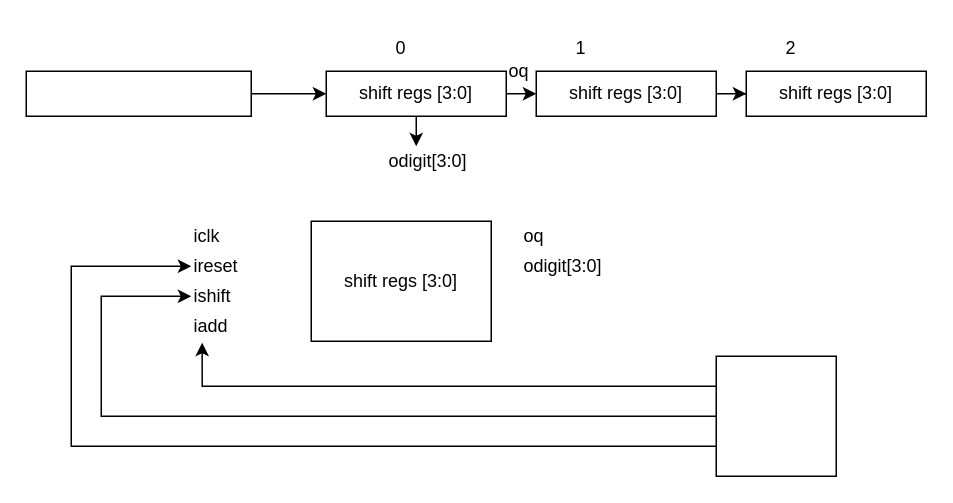
Image size: 953x503. Some labels were removed from this diagram. Each missing label, with the box of its shape:
binary shift register: (25, 70, 251, 116)
FSM: (715, 355, 836, 476)
